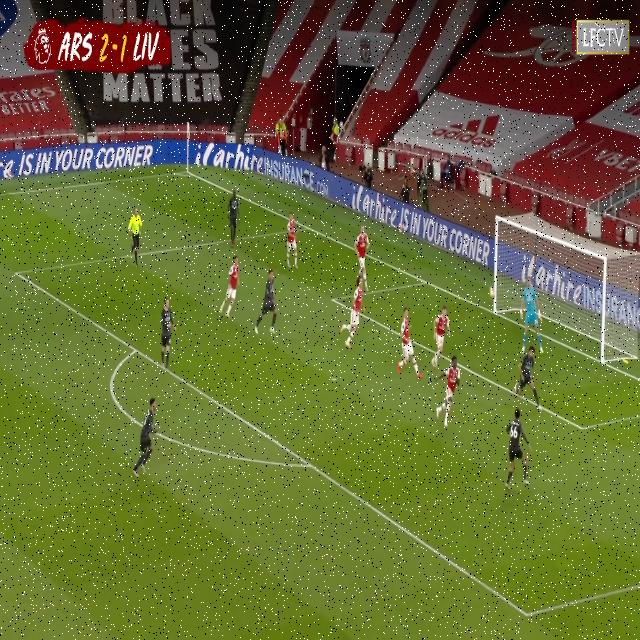Ball: (488, 286, 497, 303)
GoalKeeper: (520, 278, 544, 355)
TEAM 1: (339, 274, 368, 353), (432, 357, 462, 428), (398, 307, 422, 379), (354, 225, 372, 290), (433, 305, 451, 368), (224, 256, 242, 316), (288, 212, 300, 270)
TEAM 2: (504, 411, 533, 493), (134, 398, 160, 477), (253, 270, 278, 337), (518, 346, 542, 406), (159, 298, 175, 368), (227, 191, 241, 250)
